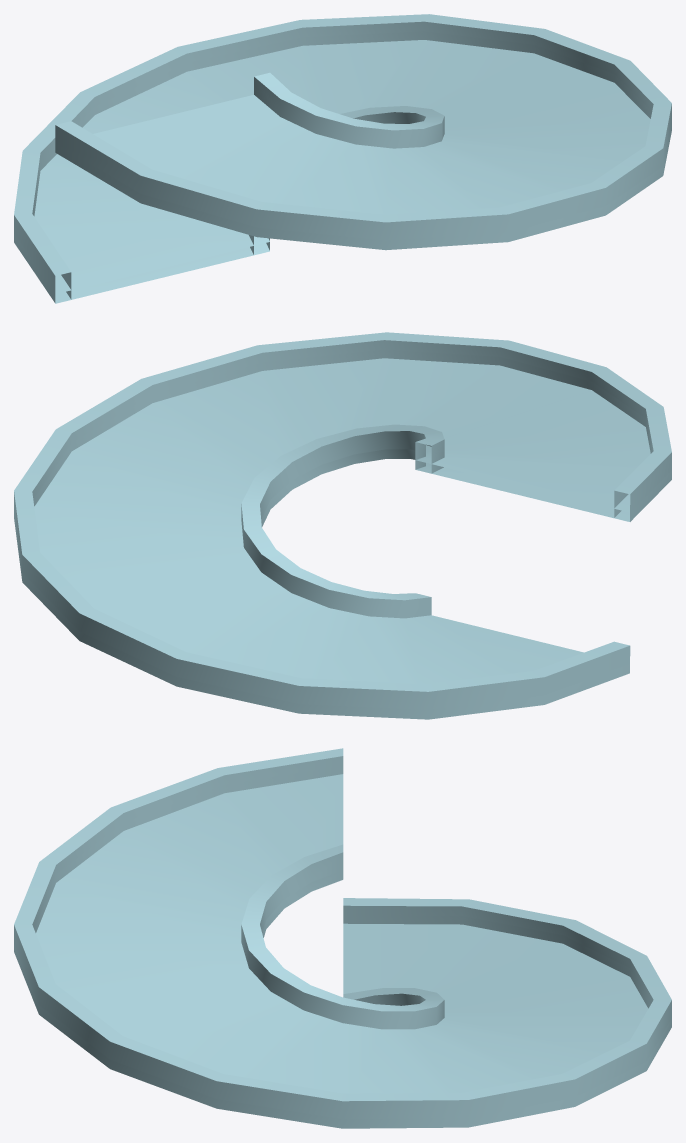
File: espiralDireita (1).fbx
3 views of the same model, one above another, from view 1: azimuth 30°, elevation 25°; view 2: azimuth 150°, elevation 25°; view 3: azimuth 270°, elevation 25° (orthographic).
Parts seen in each view (by area): view 1: Pista direita; view 2: Pista direita; view 3: Pista direita.
Part boxes in pixels (x1=…): Pista direita: x1=14, y1=14, x2=671, y2=303; Pista direita: x1=14, y1=332, x2=671, y2=719; Pista direita: x1=14, y1=748, x2=671, y2=1128.
Size of the model in its own units: 3175 by 944 by 3175.
